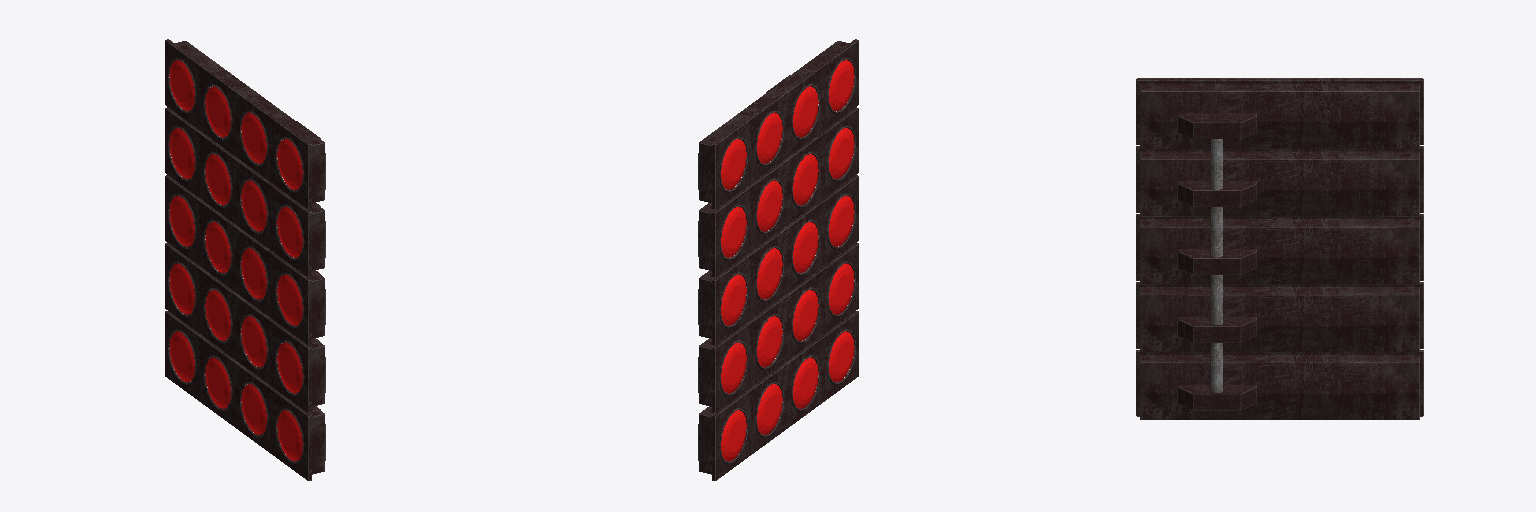
3 views of the same model, side by side, from view 1: azimuth 30°, elevation 25°; view 2: azimuth 150°, elevation 25°; view 3: azimuth 270°, elevation 25° (orthographic).
Visible parts, largest first — view 1: lights_lights_0, lights_lights_glass_0; view 2: lights_lights_0, lights_lights_glass_0; view 3: lights_lights_0.
Boxes of the visible parts, x1,y1,x2,y2 form: lights_lights_0: [165, 39, 325, 480]; lights_lights_glass_0: [169, 60, 302, 461]; lights_lights_0: [698, 39, 858, 480]; lights_lights_glass_0: [721, 60, 854, 461]; lights_lights_0: [1136, 78, 1423, 419].
Size of the model in its own units: 0.2649 by 1.94 by 1.5.
Materials: 2 (1 with a texture image).